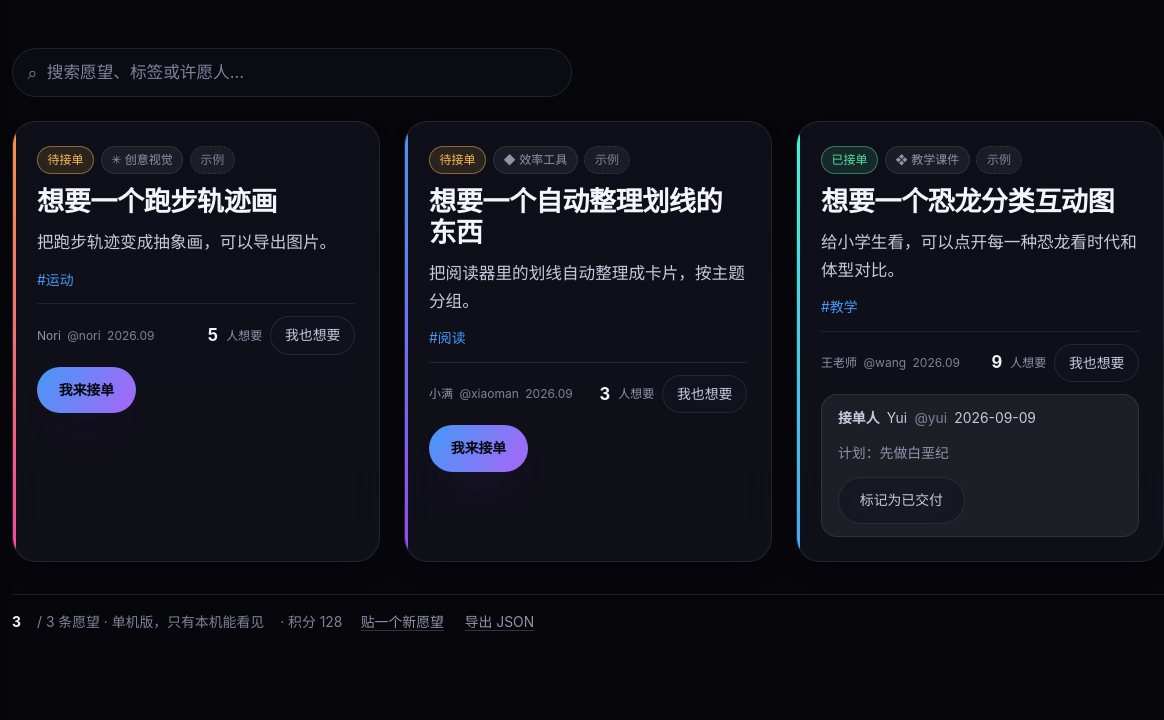
WishesPage › 接单缺署名时报错且不改变状态
Click the button "我来接单" below "效率工具".
click(478, 449)  # box [429, 426, 528, 472]
(page scrolled)
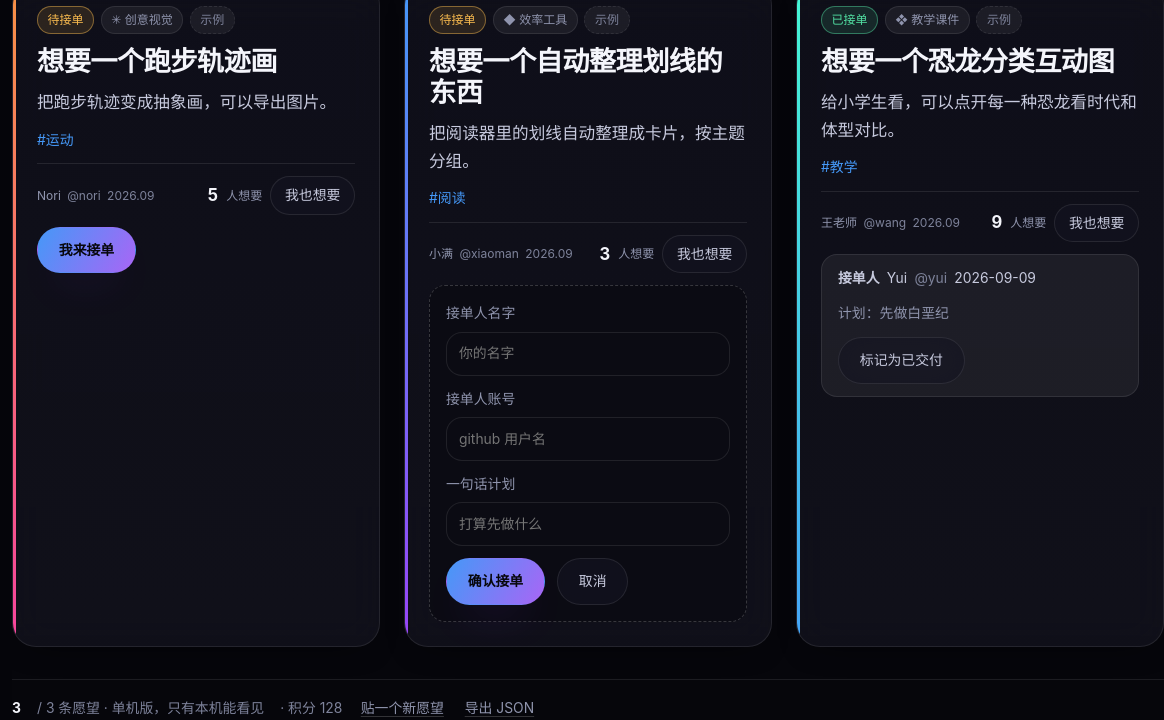
Click the button "确认接单".
click(496, 582)  # box [446, 558, 545, 605]
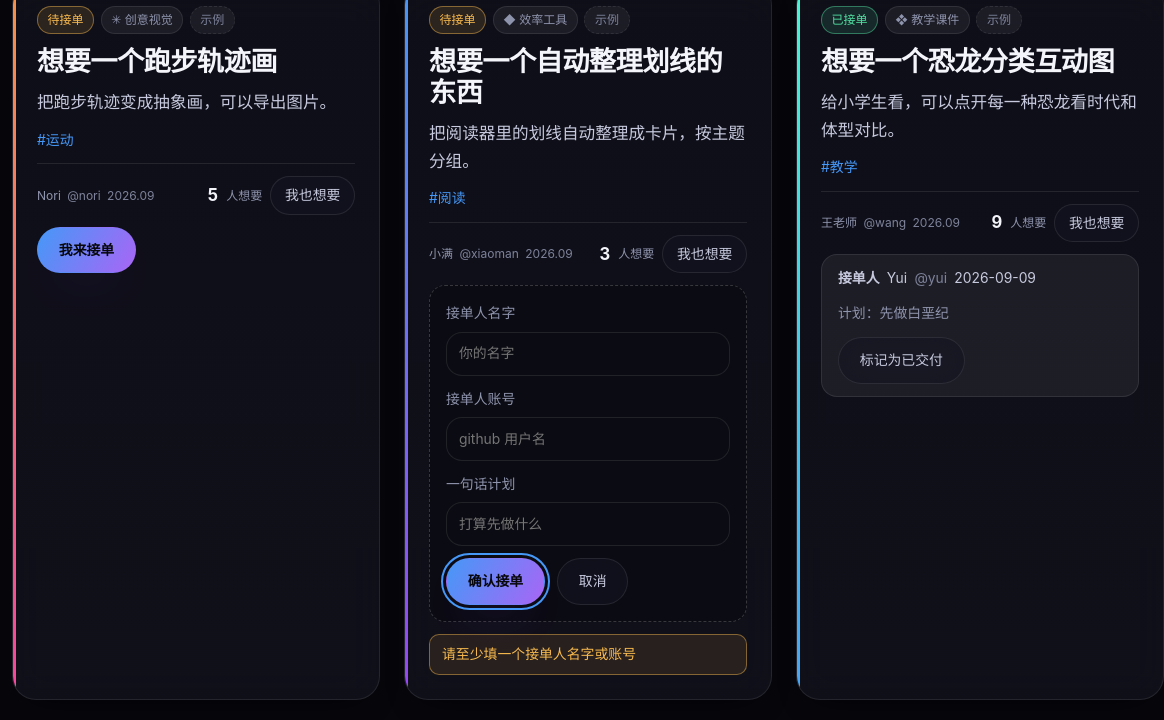
Check: the list item with test id "wish-card-seed-one" shows "待接单", box [440, 12, 476, 27]
Check: the button "确认接单" is shown, box [446, 558, 545, 605]
Check: the message shows "接单人", box [429, 634, 747, 675]
